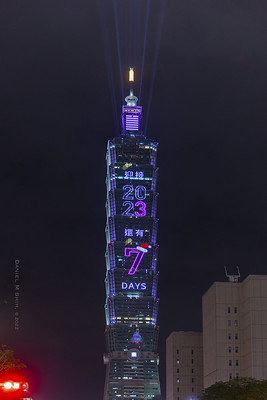low: (96, 66, 167, 400)
